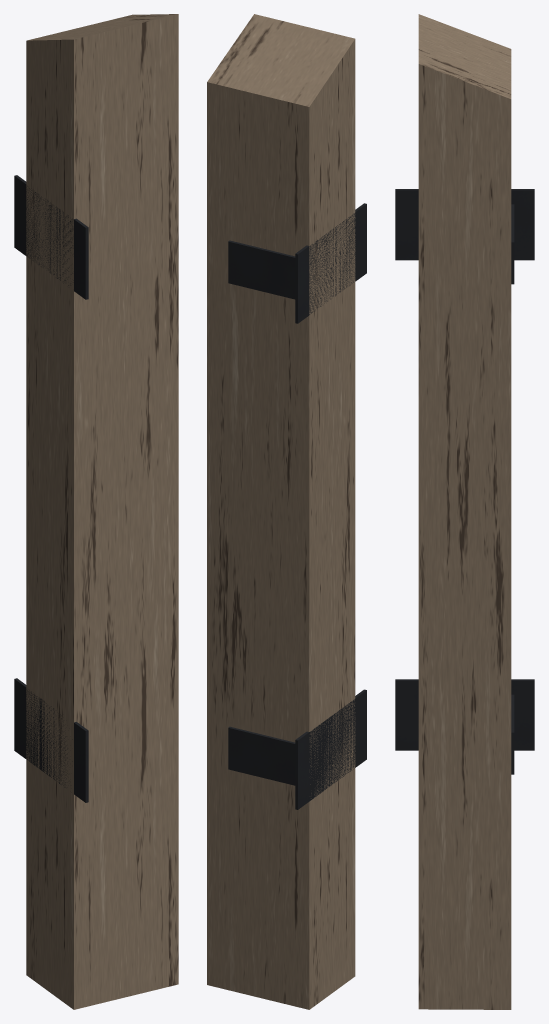
File: fence_splitrail_end_post.gltf
3 renders of one model, left to right at view 1: azimuth 30°, elevation 25°; view 2: azimuth 150°, elevation 25°; view 3: azimuth 270°, elevation 25°, orthographic. The views are drawn at different scales.
Parts seen in each view (by area): view 1: fence_splitrail_end_post; view 2: fence_splitrail_end_post; view 3: fence_splitrail_end_post.
Boxes of the visible parts, x1=… form: fence_splitrail_end_post: x1=14, y1=14, x2=178, y2=1009; fence_splitrail_end_post: x1=207, y1=14, x2=366, y2=1009; fence_splitrail_end_post: x1=395, y1=14, x2=534, y2=1009.
Size of the model in its own units: 0.1541 by 1.35 by 0.18.
Materials: 2 (2 with a texture image).
